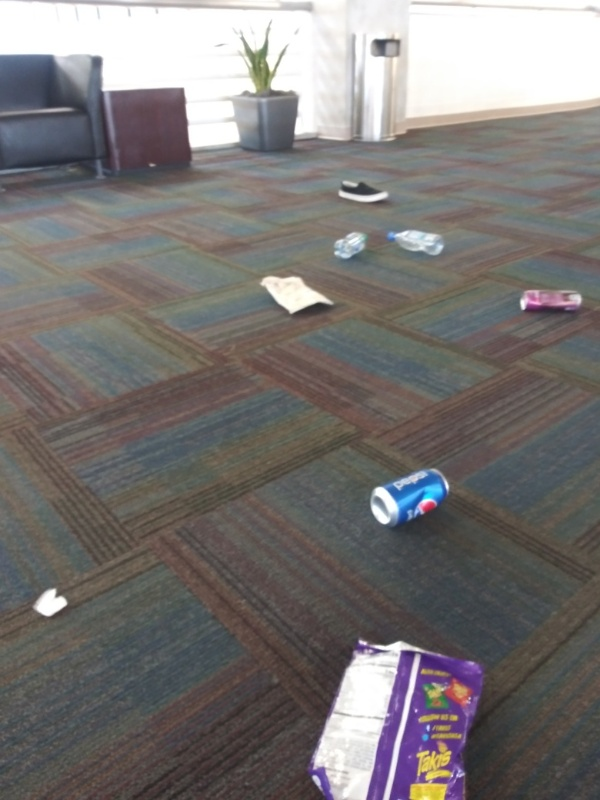bag: (303, 634, 490, 800), (254, 271, 341, 320)
bottle: (382, 229, 448, 260), (333, 225, 372, 259)
can: (367, 463, 454, 532), (515, 285, 586, 319)
